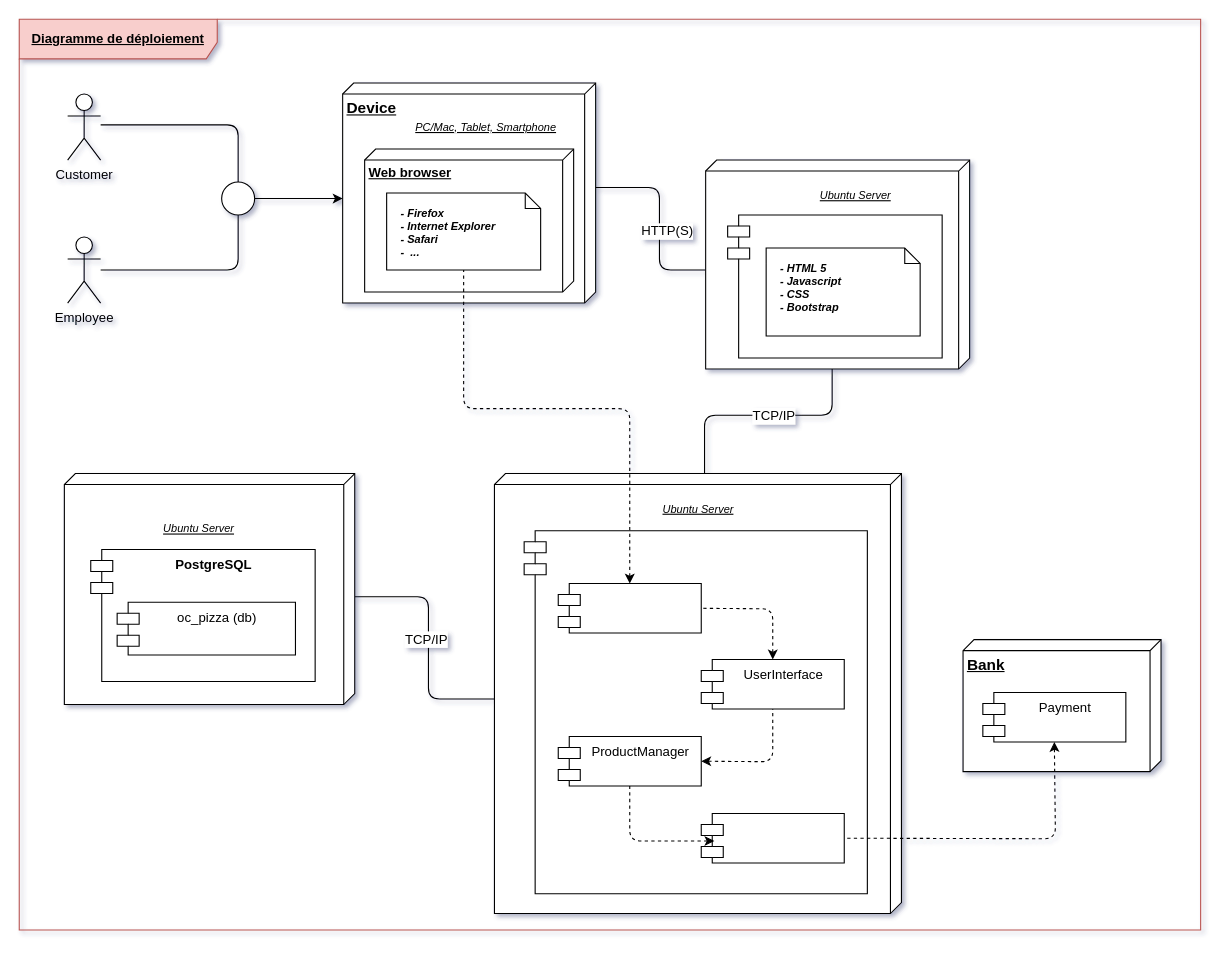
Image size: 1227x956. Some labels were removed from this diagram. The box of each missing label's shape, as (x1, y1, x2, y2) in pixels:
Apache: (727, 214, 942, 358)
Application Server: (493, 472, 901, 914)
Database Server: (63, 472, 355, 705)
OrderManager: (700, 812, 844, 863)
Python - Django: (523, 530, 867, 894)
UserManager: (557, 582, 701, 633)
Web Server: (705, 159, 970, 369)
